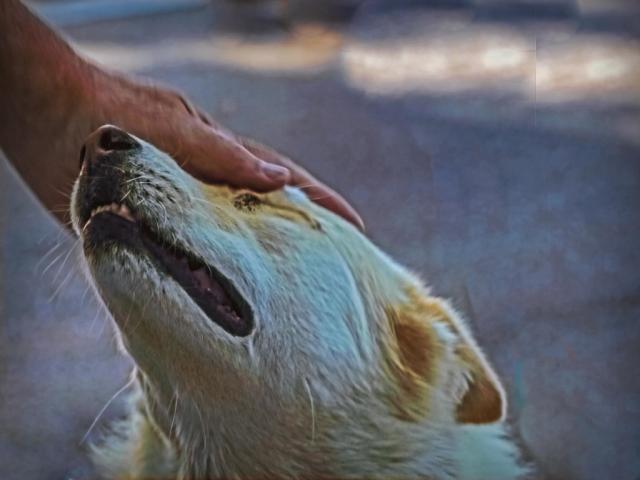Dog: (41, 122, 530, 480)
